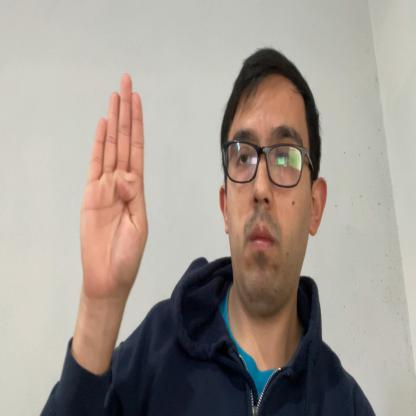B: (79, 72, 149, 304)
